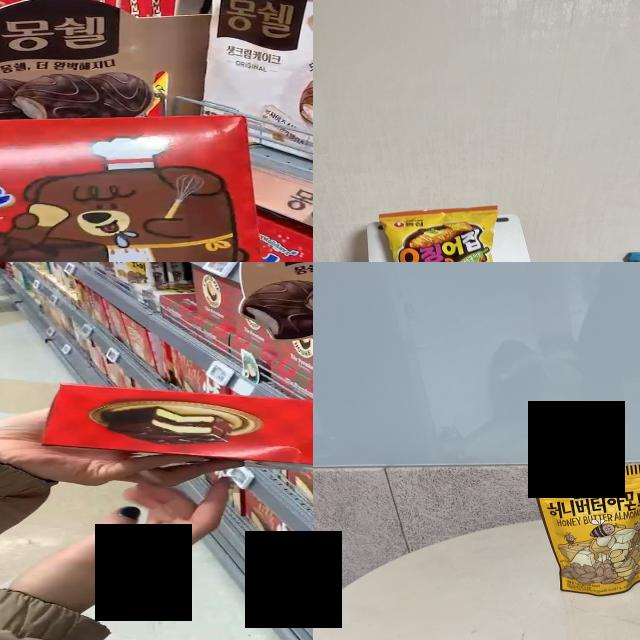honeyAmond: (544, 471, 640, 588)
ohYes: (0, 125, 263, 262), (49, 386, 313, 475)
ozingZip: (377, 207, 523, 262)
